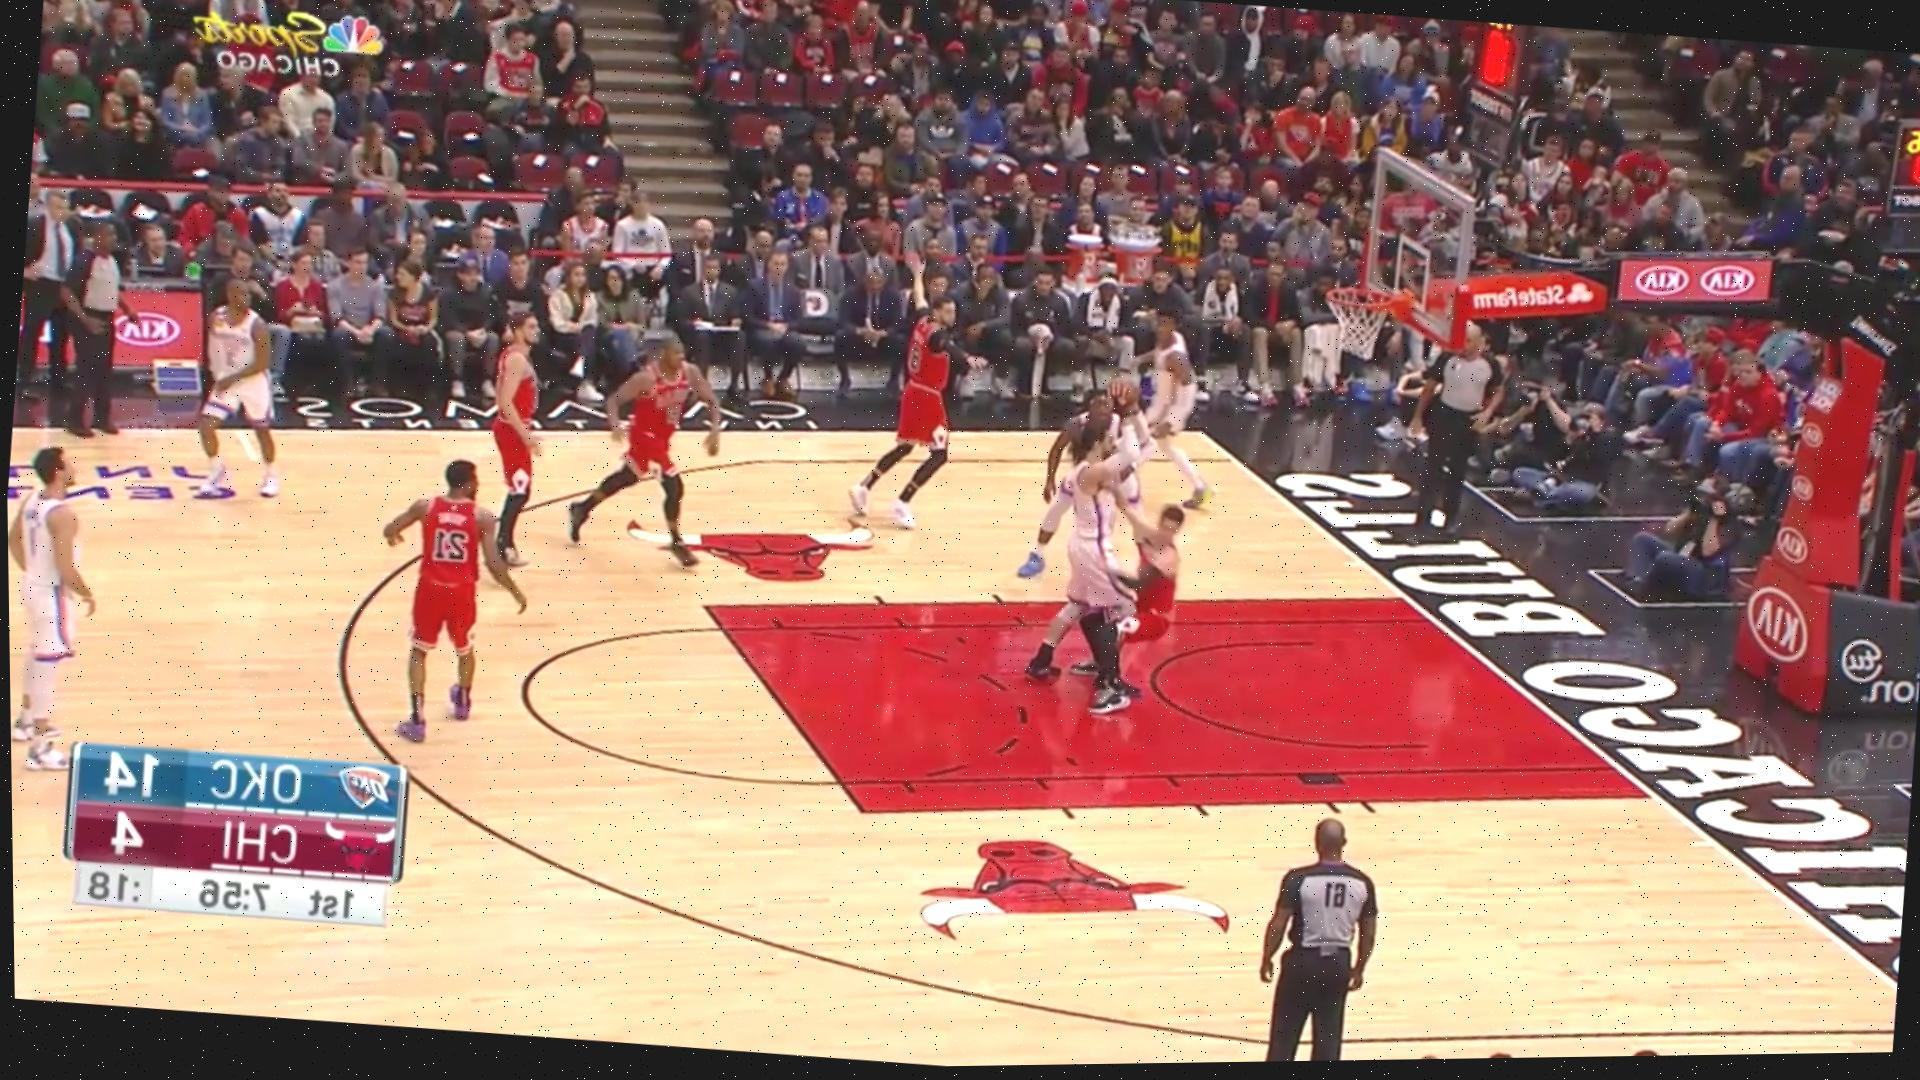foul: (1031, 418, 1188, 702)
